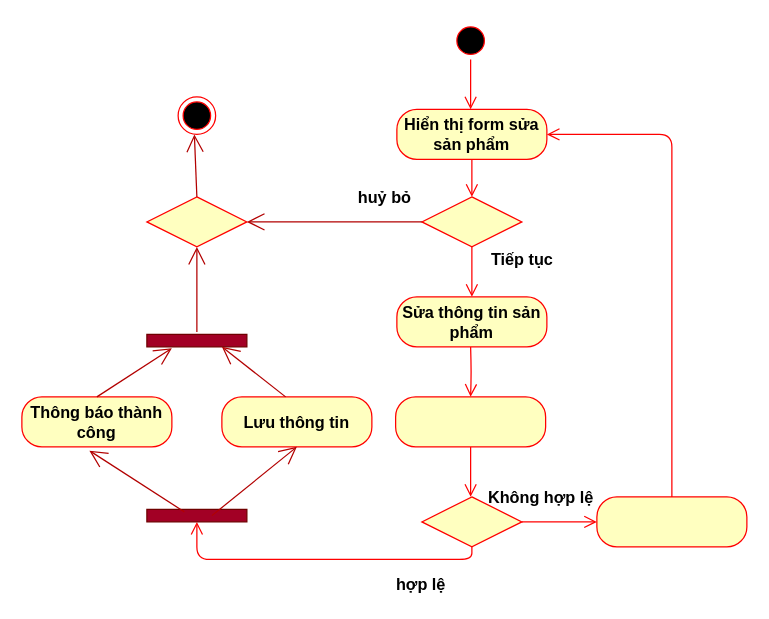
Some shapes in this 769 by 619 pixel diagram are drawn without their labels. Each missing label, with the box of its shape:
nhấn nút sửa: (394, 396, 546, 447)
Thông báo lỗi: (596, 496, 747, 547)
